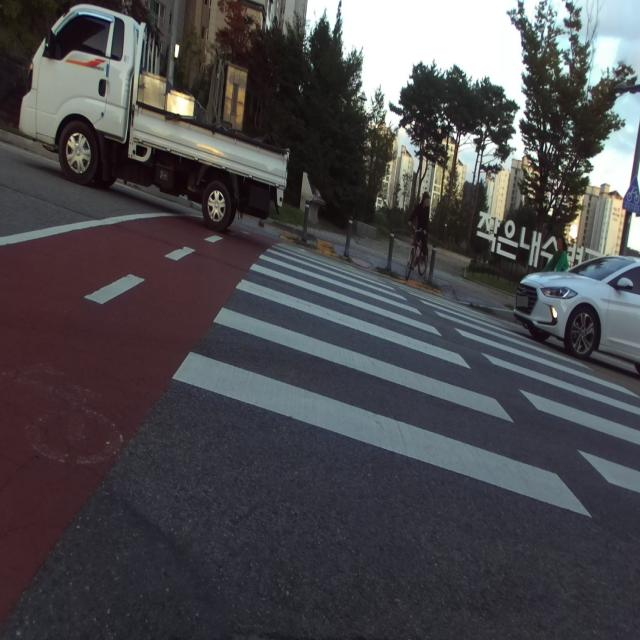횡단보도: (172, 242, 640, 517)
